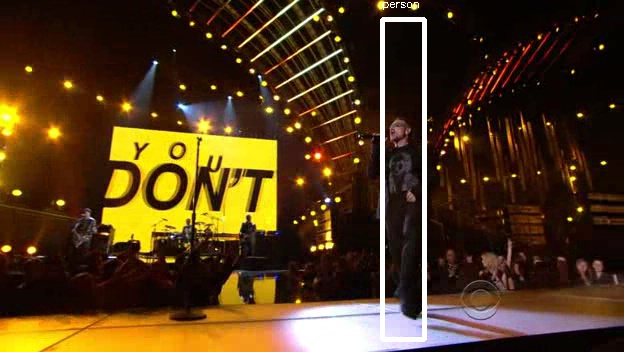person: (371, 117, 437, 225), (368, 117, 434, 225), (374, 117, 440, 225), (371, 114, 437, 222), (371, 120, 437, 228)
target_negative: (32, 81, 588, 239), (42, 60, 587, 104), (35, 142, 313, 179), (81, 44, 119, 308), (73, 13, 90, 310), (464, 231, 530, 304)
